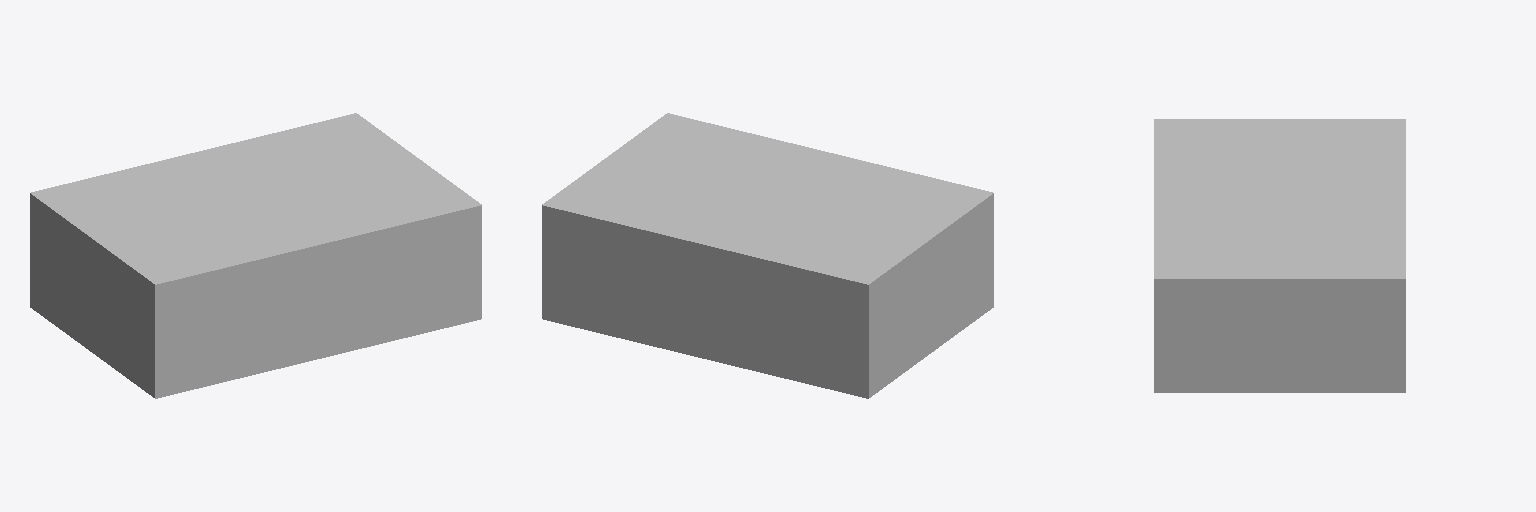
File: Block_6x4x2.obj
3 renders of one model, left to right at view 1: azimuth 30°, elevation 25°; view 2: azimuth 150°, elevation 25°; view 3: azimuth 270°, elevation 25°, orthographic.
Visible parts, largest first — view 1: Block_6x4x2_Cube.213; view 2: Block_6x4x2_Cube.213; view 3: Block_6x4x2_Cube.213.
Part boxes in pixels (left/top/right/bottom): Block_6x4x2_Cube.213: left=30, top=113, right=481, bottom=398; Block_6x4x2_Cube.213: left=542, top=113, right=993, bottom=398; Block_6x4x2_Cube.213: left=1154, top=119, right=1405, bottom=392.
Size of the model in its own units: 6 by 2 by 4.